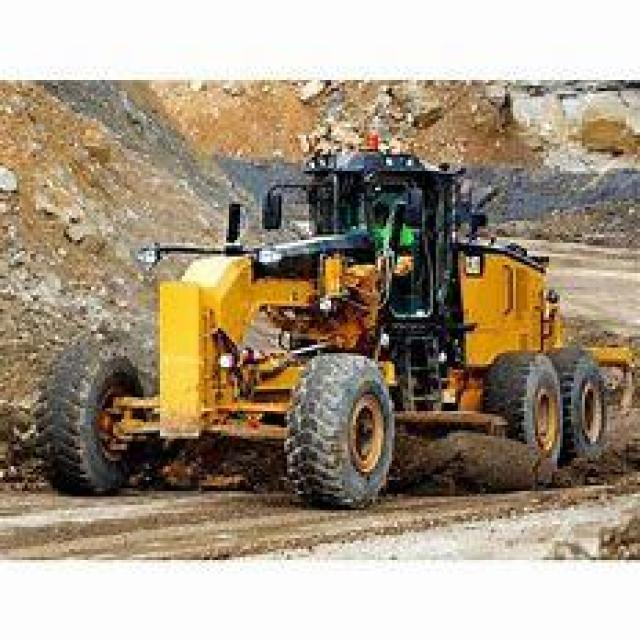buldozerpayloadergrader: (44, 141, 615, 527)
